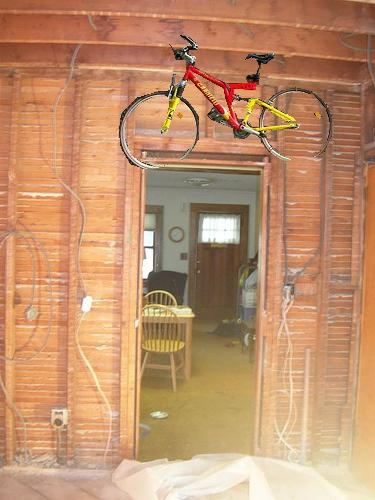tampered: (120, 36, 332, 169)
